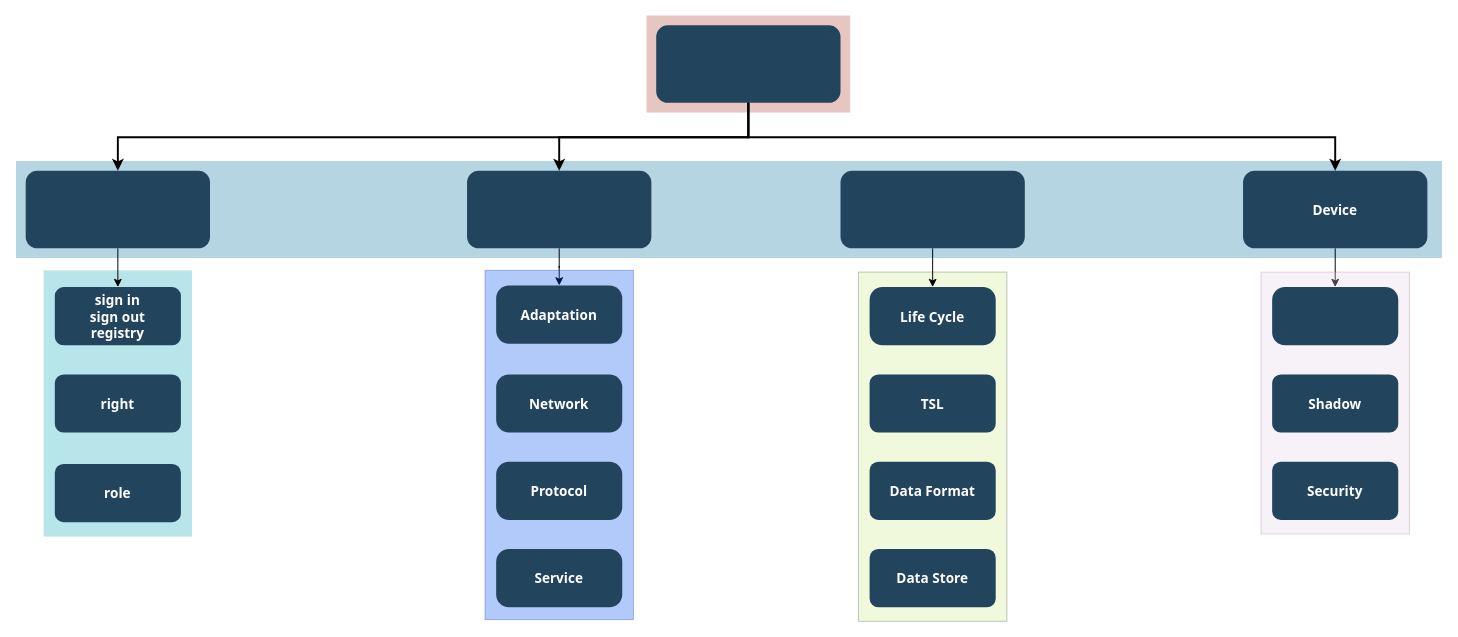
Some shapes in this 1458 by 637 pixel diagram are drawn without their labels. The shapes that lost their labels are listed below. From the top down, each one's centre as x and y in pixels, then its label:
point 748,63: IOT Hub
point 117,209: User
point 559,209: Device SDK
point 932,209: Product
point 1335,316: Access
